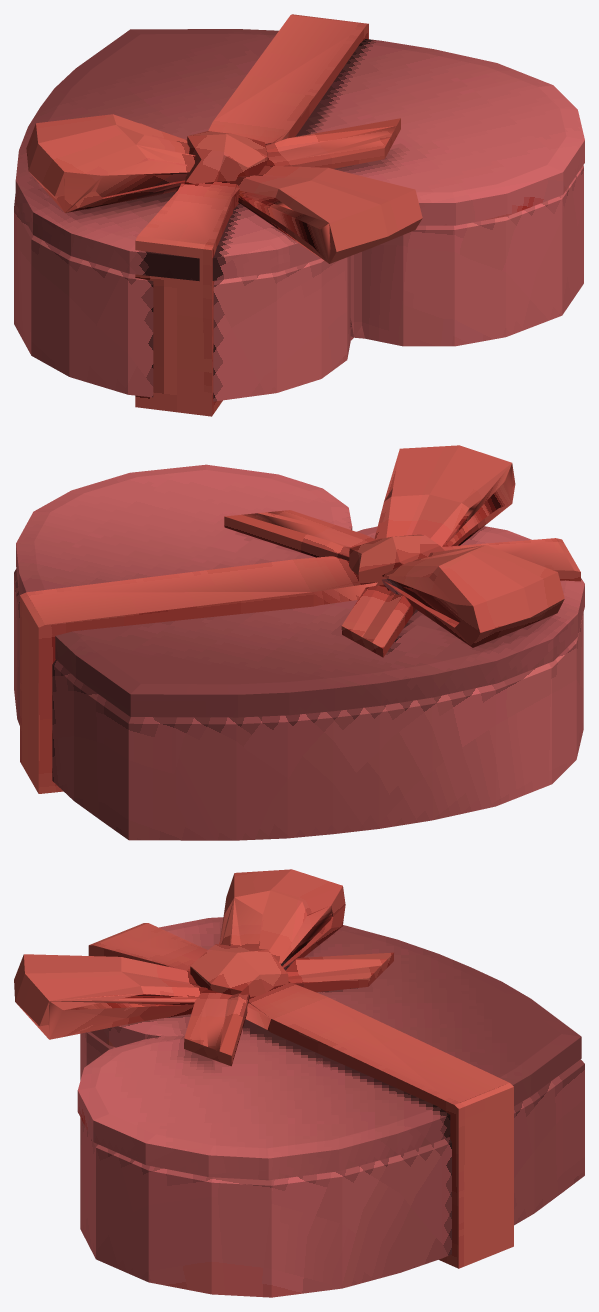
Rendered from item_heartchocolatebox.glb.
3 renders of one model, top to bottom at view 1: azimuth 30°, elevation 25°; view 2: azimuth 150°, elevation 25°; view 3: azimuth 270°, elevation 25°, orthographic. The views are drawn at different scales.
Parts seen in each view (by area): view 1: HeartChocolateBox; view 2: HeartChocolateBox; view 3: HeartChocolateBox.
Boxes of the visible parts, left/top/right/bottom form: HeartChocolateBox: left=14, top=14, right=584, bottom=416; HeartChocolateBox: left=14, top=445, right=584, bottom=840; HeartChocolateBox: left=14, top=869, right=584, bottom=1297.
Size of the model in its own units: 0.4471 by 0.1828 by 0.4421.
1 material, 1 textured.
